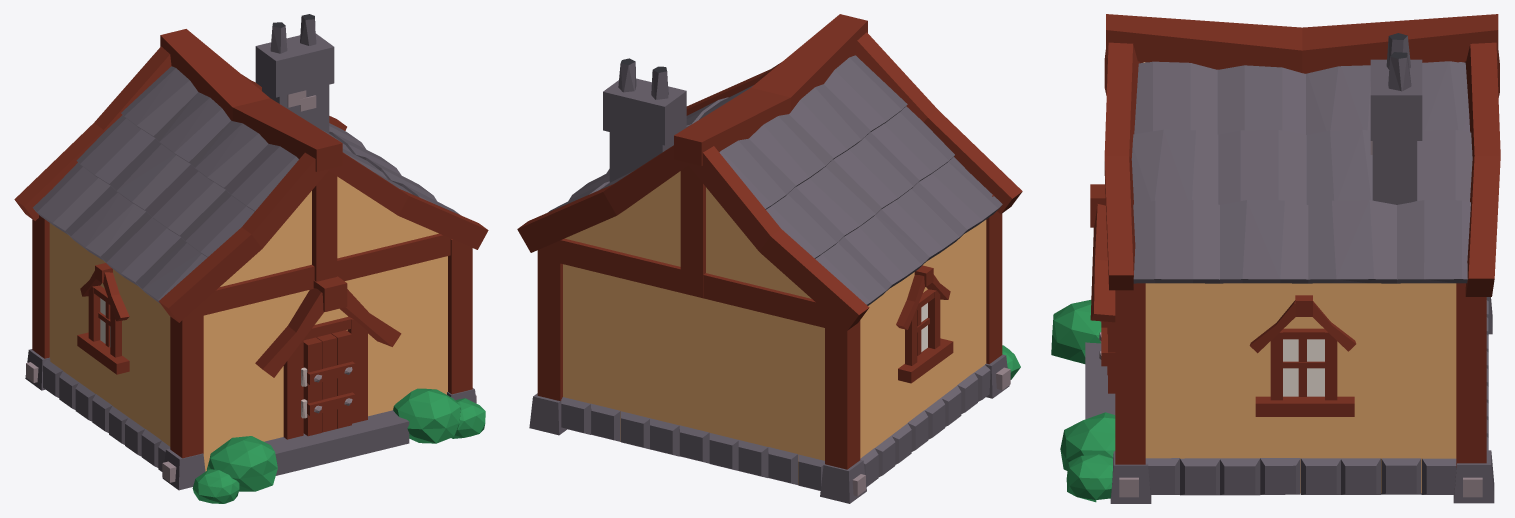
The model's file is Poor_house.fbx.
The picture shows the model from 3 angles, left to right: view 1: azimuth 30°, elevation 25°; view 2: azimuth 150°, elevation 25°; view 3: azimuth 270°, elevation 25°; orthographic projection. The views are drawn at different scales.
Parts seen in each view (by area): view 1: Домик; view 2: Домик; view 3: Домик.
Boxes of the visible parts, bbox=[...] form: Домик: bbox=[14, 14, 488, 503]; Домик: bbox=[517, 14, 1022, 503]; Домик: bbox=[1051, 14, 1500, 503].
Bounding box in the file's own units: 229 × 230 × 221.
